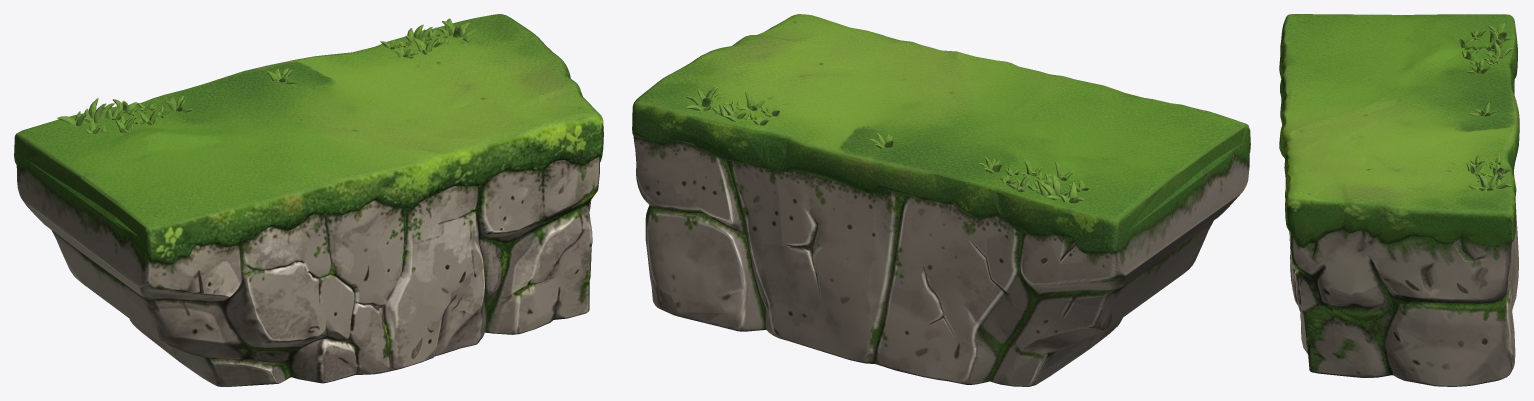
File: RockPlatform.fbx
The picture shows the model from 3 angles, left to right: view 1: azimuth 30°, elevation 25°; view 2: azimuth 150°, elevation 25°; view 3: azimuth 270°, elevation 25°; orthographic projection. The views are drawn at different scales.
Parts seen in each view (by area): view 1: RockPlatform; view 2: RockPlatform; view 3: RockPlatform.
Boxes of the visible parts, x1=… form: RockPlatform: x1=14, y1=14, x2=603, y2=386; RockPlatform: x1=632, y1=14, x2=1250, y2=386; RockPlatform: x1=1279, y1=14, x2=1519, y2=386.
Bounding box in the file's own units: 2 × 0.8672 × 1.
1 material, 1 textured.
